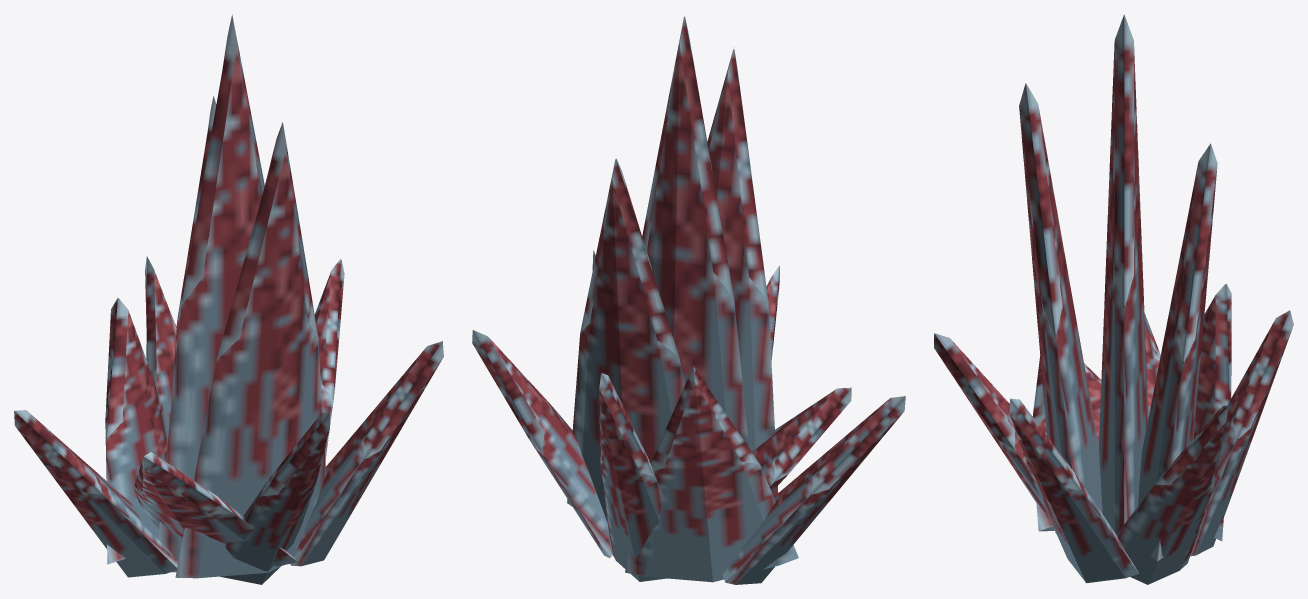
File: Glass.fbx
3 renders of one model, left to right at view 1: azimuth 30°, elevation 25°; view 2: azimuth 150°, elevation 25°; view 3: azimuth 270°, elevation 25°, orthographic. The views are drawn at different scales.
Parts seen in each view (by area): view 1: mesh_7, mesh, mesh_9, mesh_2, mesh_5, mesh_4, mesh_6, mesh_1, mesh_3, mesh_8; view 2: mesh, mesh_8, mesh_2, mesh_7, mesh_5, mesh_1, mesh_3, mesh_6, mesh_4; view 3: mesh, mesh_7, mesh_8, mesh_3, mesh_9, mesh_1, mesh_4, mesh_2, mesh_6, mesh_5.
Boxes of the visible parts, box(x1,y1,x2,y2) form: mesh_7: box(175, 122, 326, 578); mesh: box(158, 14, 264, 572); mesh_9: box(290, 341, 443, 566); mesh_2: box(105, 298, 168, 564); mesh_5: box(14, 410, 177, 577); mesh_4: box(220, 412, 329, 584); mesh_6: box(134, 452, 297, 566); mesh_1: box(145, 256, 176, 429); mesh_3: box(314, 259, 344, 459); mesh_8: box(172, 96, 216, 398); mesh: box(642, 16, 748, 447); mesh_8: box(567, 158, 684, 522); mesh_2: box(625, 366, 798, 582); mesh_7: box(707, 49, 778, 496); mesh_5: box(722, 396, 905, 584); mesh_1: box(599, 373, 666, 581); mesh_3: box(472, 330, 612, 558); mesh_6: box(752, 387, 851, 491); mesh_4: box(766, 266, 779, 360); mesh: box(1099, 14, 1148, 534); mesh_7: box(1019, 83, 1102, 533); mesh_8: box(1138, 143, 1217, 561); mesh_3: box(1116, 405, 1228, 584); mesh_9: box(1009, 398, 1138, 583); mesh_1: box(1190, 310, 1293, 556); mesh_4: box(934, 333, 1047, 514); mesh_2: box(1193, 284, 1231, 540); mesh_6: box(1032, 356, 1101, 531); mesh_5: box(1144, 313, 1160, 416).
Bounding box in the file's own units: 70.35 × 95.6 × 58.22.
1 material, 1 textured.
